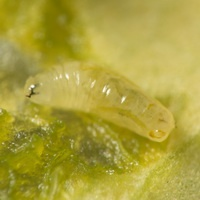insect: (25, 62, 174, 141), (26, 84, 36, 97)
